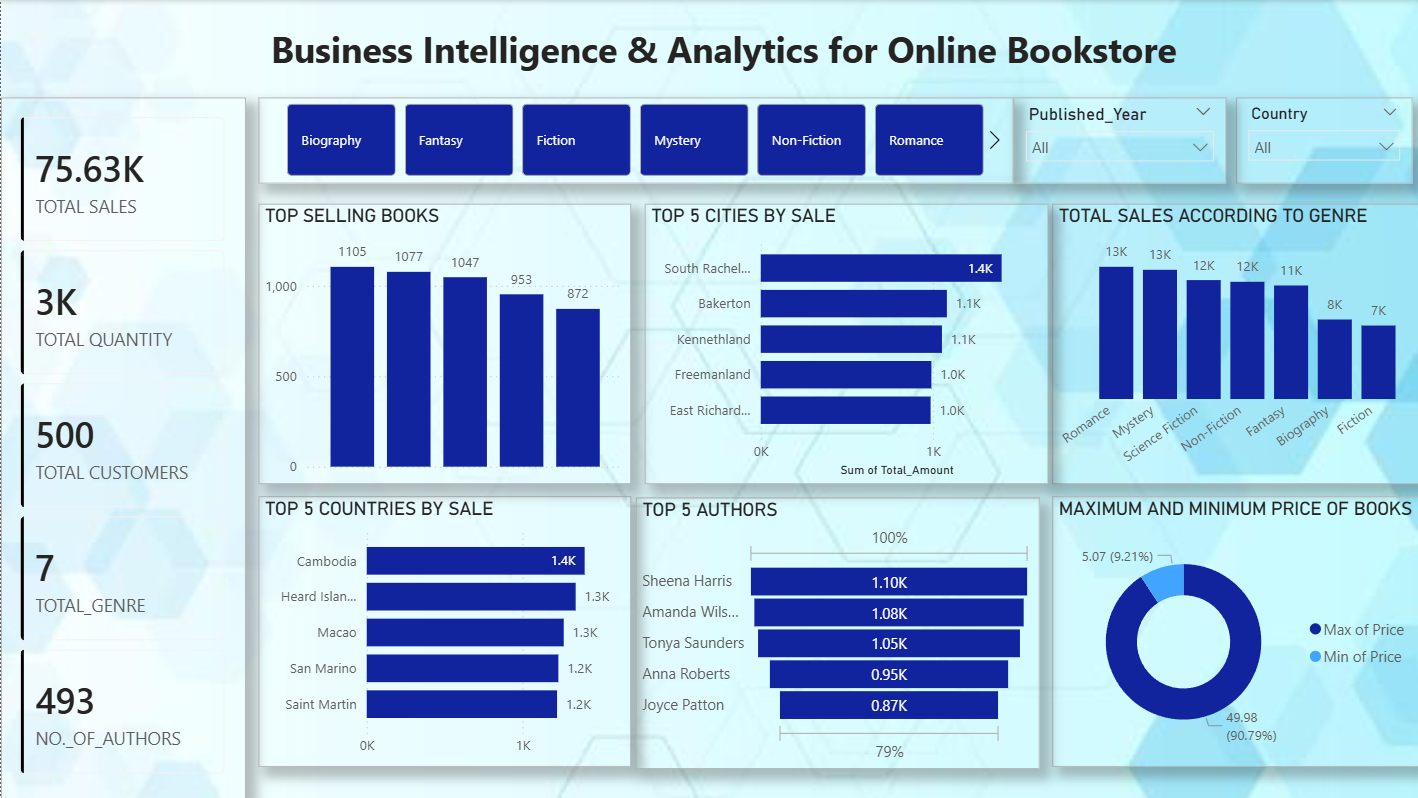

This screenshot's page, from the dashboard's own definition file:
{"tool":"powerbi","page":{"name":"Page 1","canvas":[1280,720],"ordinal":0},"visuals":[{"type":"textbox","box":[0,0,1280.3,87.8],"z":0},{"type":"columnChart","title":"TOTAL SALES ACCORDING TO GENRE","fields":{"Y":["Sum(ORDERS.Total_Amount)"],"Category":["BOOKS.Genre"]},"box":[947.9,183.7,332.5,252.5],"z":1000},{"type":"cardVisual","fields":{"Data":["Sum(ORDERS.Total_Amount)","Sum(ORDERS.Quantity)","CountNonNull(ORDERS.Customer_ID)","BOOKS.TOTAL_GENRE","BOOKS.NO._OF_AUTHORS"]},"box":[0,88.4,220.9,632.6],"z":2000},{"type":"barChart","title":"TOP 5 COUNTRIES BY SALE","fields":{"Category":["CUSTOMERS.Country"],"Y":["Sum(ORDERS.Total_Amount)"]},"box":[232.6,447.7,336,244.2],"z":3000},{"type":"donutChart","title":"MAXIMUM AND MINIMUM PRICE OF BOOKS","fields":{"Y":["Max(BOOKS.Price)","Min(BOOKS.Price)1"]},"box":[947.7,447.7,332.6,244.2],"z":4000},{"type":"funnel","title":"TOP 5 AUTHORS","fields":{"Category":["BOOKS.Author"],"Y":["Sum(ORDERS.Total_Amount)"]},"box":[572.6,448.6,364.1,244.6],"z":5000},{"type":"columnChart","title":"TOP SELLING BOOKS","fields":{"Category":["BOOKS.Title"],"Y":["Sum(ORDERS.Total_Amount)"]},"box":[232.2,183.7,335.9,252.5],"z":6000},{"type":"slicer","fields":{"Values":["CUSTOMERS.Country"]},"box":[1113.6,87.9,158.9,77.8],"z":7000},{"type":"clusteredBarChart","title":"TOP 5 CITIES BY SALE","fields":{"Category":["CUSTOMERS.City"],"Y":["Sum(ORDERS.Total_Amount)"]},"box":[580.5,183.7,364.1,252.5],"z":8000},{"type":"advancedSlicerVisual","fields":{"Values":["BOOKS.Genre"]},"box":[232.2,87.9,680.8,77.8],"z":9000},{"type":"slicer","fields":{"Values":["BOOKS.Published_Year"]},"box":[913,87.9,191.6,77.8],"z":10000}]}

Visuals, with their boxes in screenshot pixels (x1, y1, x2, y2), scaled from the page's 1280x720 canvas onto the 1418x798 screenshot:
textbox: box(0, 0, 1417, 97)
"TOTAL SALES ACCORDING TO GENRE" columnChart: box(1050, 204, 1417, 483)
cardVisual - Sum(ORDERS.Total_Amount) x Sum(ORDERS.Quantity): box(0, 98, 245, 797)
"TOP 5 COUNTRIES BY SALE" barChart: box(258, 496, 630, 767)
"MAXIMUM AND MINIMUM PRICE OF BOOKS" donutChart: box(1050, 496, 1417, 767)
"TOP 5 AUTHORS" funnel: box(634, 497, 1038, 768)
"TOP SELLING BOOKS" columnChart: box(257, 204, 629, 483)
slicer - CUSTOMERS.Country: box(1234, 97, 1410, 184)
"TOP 5 CITIES BY SALE" clusteredBarChart: box(643, 204, 1046, 483)
advancedSlicerVisual - BOOKS.Genre: box(257, 97, 1011, 184)
slicer - BOOKS.Published_Year: box(1011, 97, 1224, 184)
